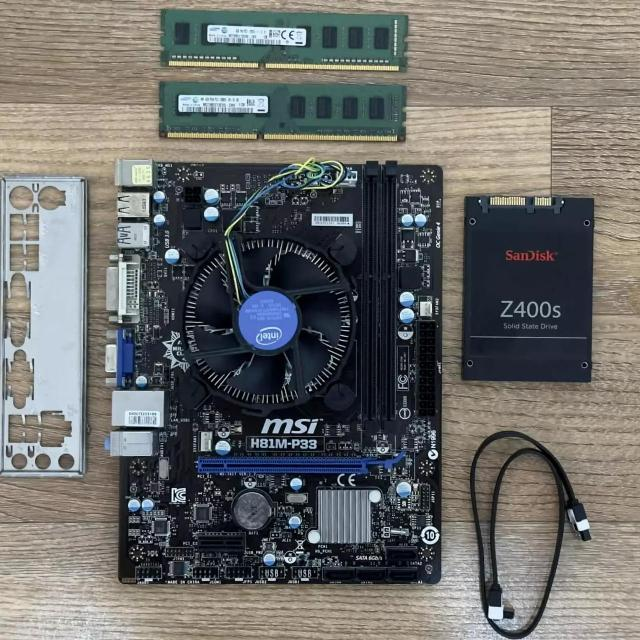CPU_Fan: (176, 231, 360, 413)
DISK: (459, 194, 596, 383)
RAM: (158, 7, 410, 74), (157, 80, 409, 144)
